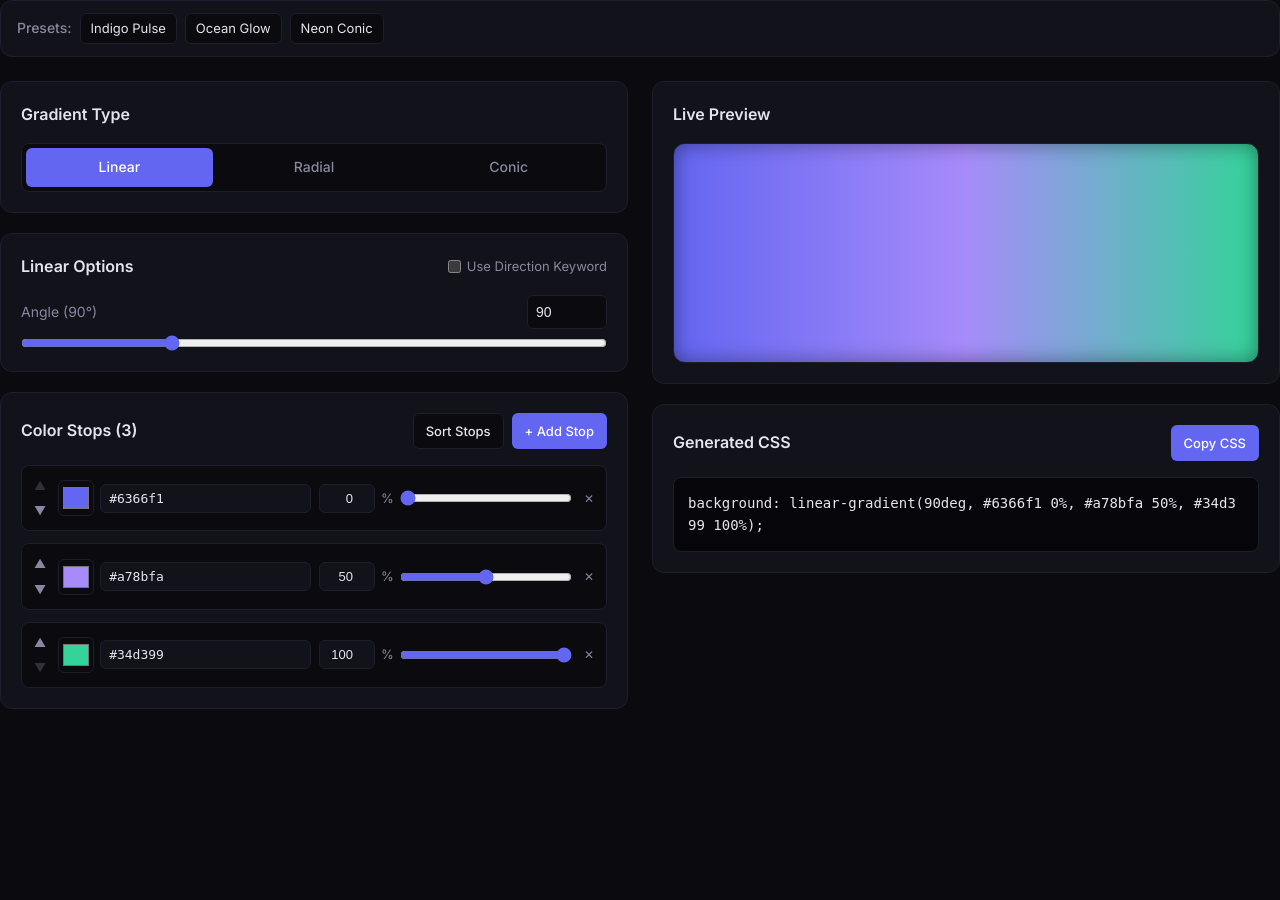
it: CssGradientTool Component › adds a new color stop and updates generated CSS
Click the button "+ Add Stop".
click(559, 431)  # box [512,413,607,449]
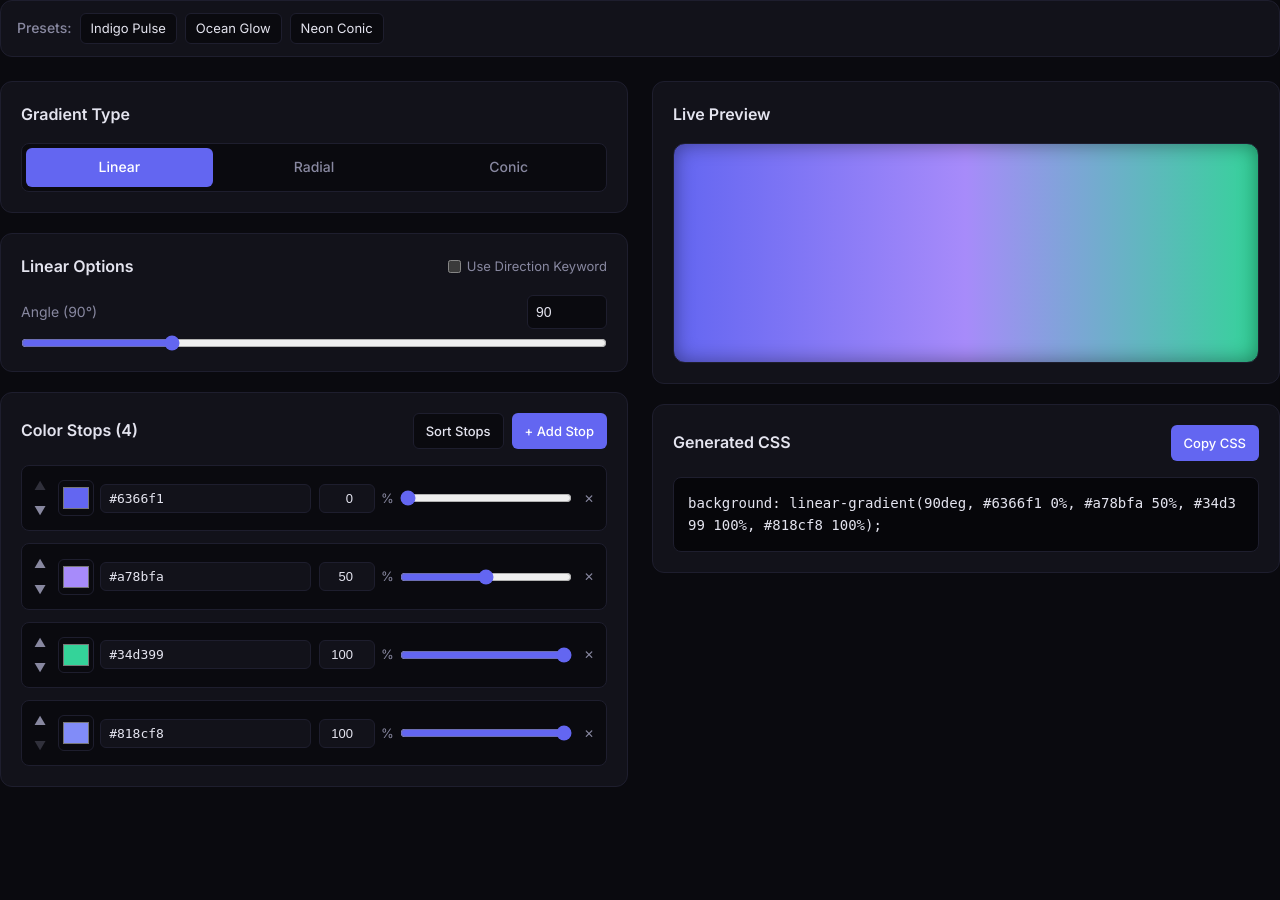
Expected: the heading "Color Stops (4)" is shown, [21,418,138,444]
